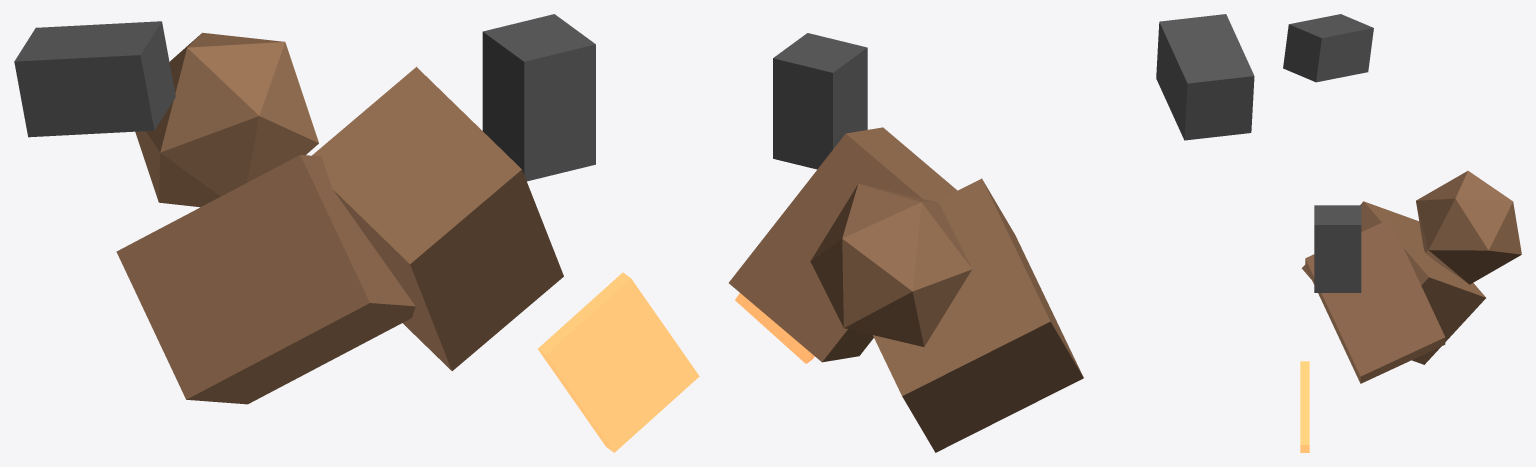
The model's file is casualty_corner_curled.glb.
3 views of the same model, side by side, from view 1: azimuth 30°, elevation 25°; view 2: azimuth 150°, elevation 25°; view 3: azimuth 270°, elevation 25° (orthographic). The views are drawn at different scales.
Visible parts, largest first — view 1: Cube, Cube.001, Icosphere, Cube.002, Cube.003, Cube.004; view 2: Cube, Icosphere, Cube.001, Cube.002, Cube.003, Cube.004; view 3: Cube.001, Icosphere, Cube.003, Cube, Cube.002, Cube.004.
Boxes of the visible parts, x1=… form: Cube: x1=116, y1=155, x2=415, y2=404; Cube.001: x1=312, y1=67, x2=563, y2=370; Icosphere: x1=135, y1=32, x2=318, y2=207; Cube.002: x1=482, y1=14, x2=595, y2=181; Cube.003: x1=14, y1=21, x2=175, y2=137; Cube.004: x1=538, y1=272, x2=699, y2=452; Cube: x1=873, y1=178, x2=1083, y2=452; Icosphere: x1=810, y1=183, x2=972, y2=346; Cube.001: x1=729, y1=127, x2=957, y2=362; Cube.002: x1=773, y1=33, x2=867, y2=169; Cube.003: x1=1156, y1=14, x2=1254, y2=140; Cube.004: x1=735, y1=293, x2=814, y2=363; Cube.001: x1=1305, y1=219, x2=1445, y2=383; Icosphere: x1=1416, y1=171, x2=1521, y2=284; Cube.003: x1=1283, y1=14, x2=1373, y2=82; Cube: x1=1301, y1=201, x2=1485, y2=364; Cube.002: x1=1314, y1=205, x2=1361, y2=292; Cube.004: x1=1300, y1=361, x2=1309, y2=452.
Size of the model in its own units: 0.9043 by 0.6966 by 0.5106.
